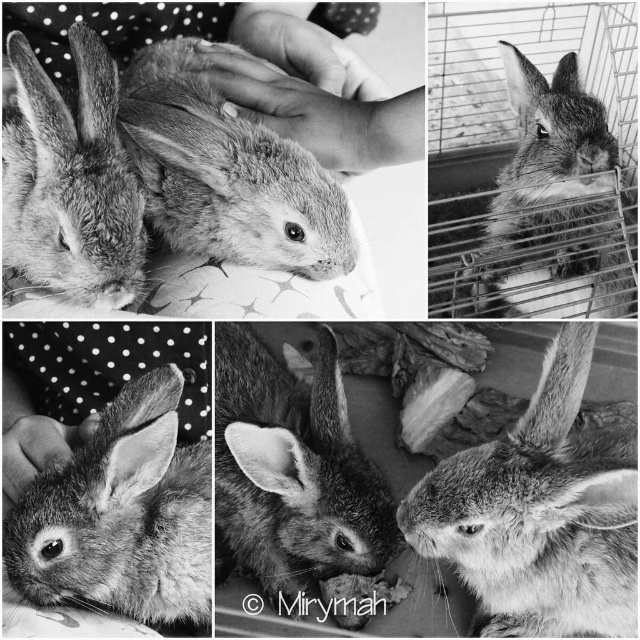Rabbit: (3, 20, 638, 638)
